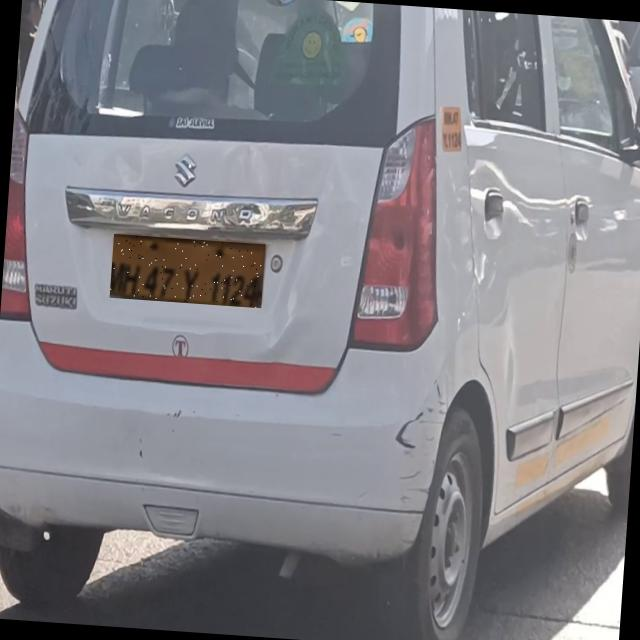Plate: (110, 235, 266, 309)
